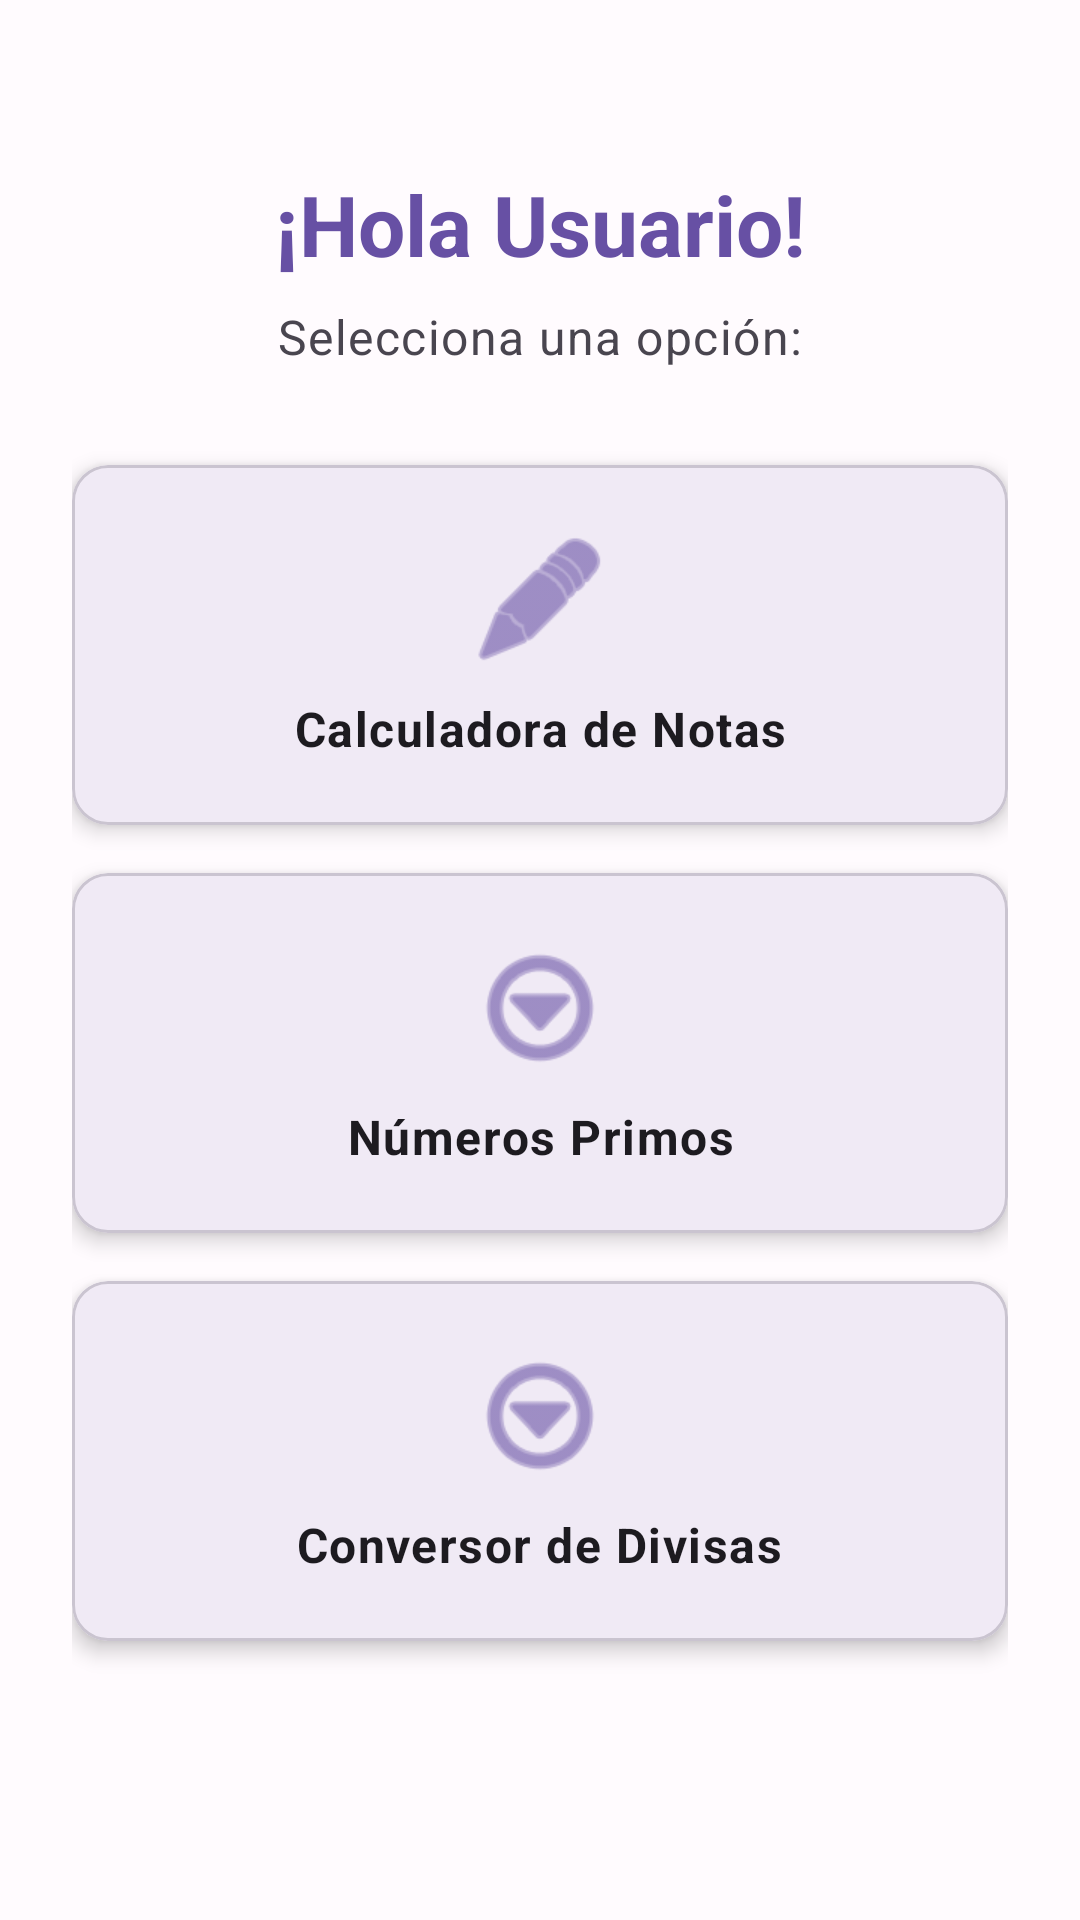

Icons on this 1080*1920 Android screen, each with the point to tap as (x=x, y=y):
edit: (x=539, y=599)
more: (x=540, y=1008), (x=540, y=1416)
